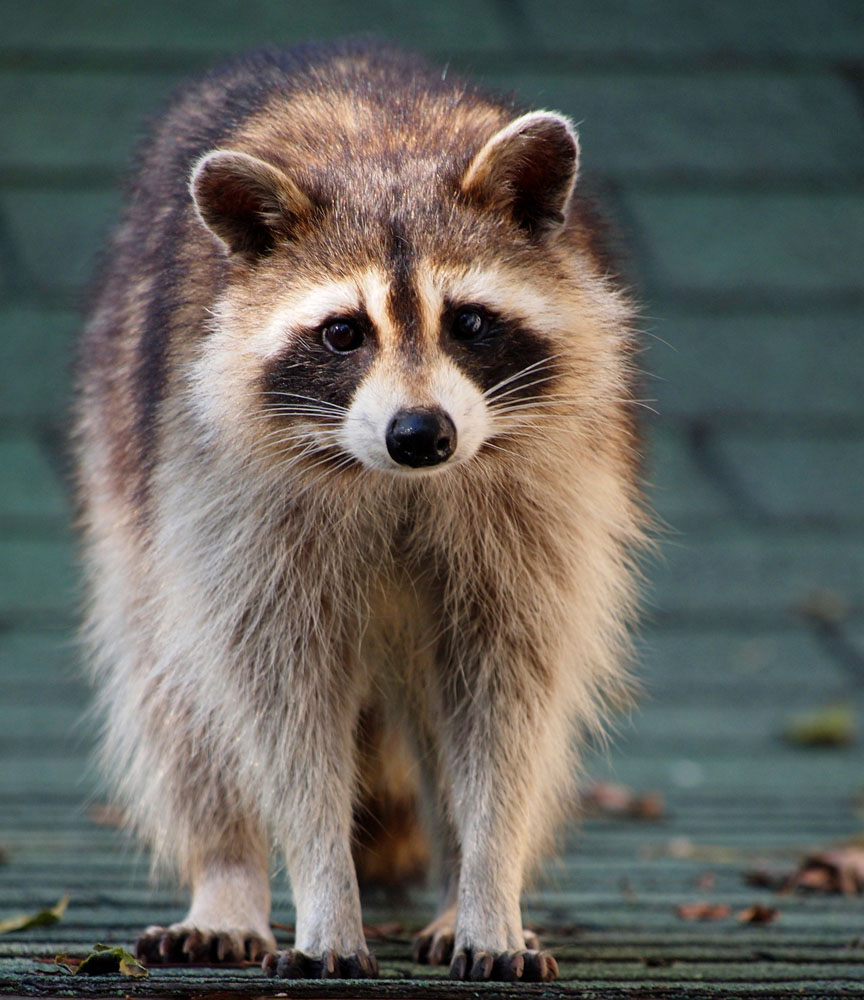raccoon: (49, 31, 692, 987)
